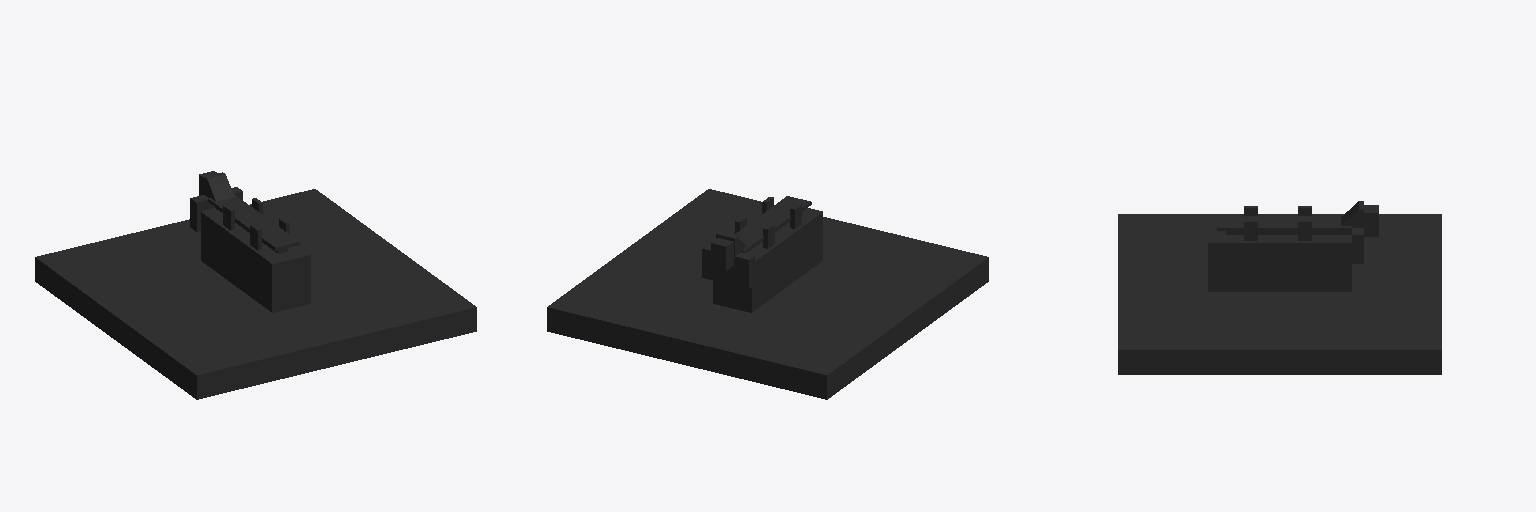
Rendered from Pallet.obj.
3 views of the same model, side by side, from view 1: azimuth 30°, elevation 25°; view 2: azimuth 150°, elevation 25°; view 3: azimuth 270°, elevation 25° (orthographic).
Parts seen in each view (by area): view 1: Pallet; view 2: Pallet; view 3: Pallet.
Boxes of the visible parts, box(x1,y1,x2,y2) form: Pallet: box(35, 171, 476, 399); Pallet: box(547, 189, 988, 399); Pallet: box(1118, 201, 1441, 374).
Bounding box in the file's own units: 180 × 62 × 180.